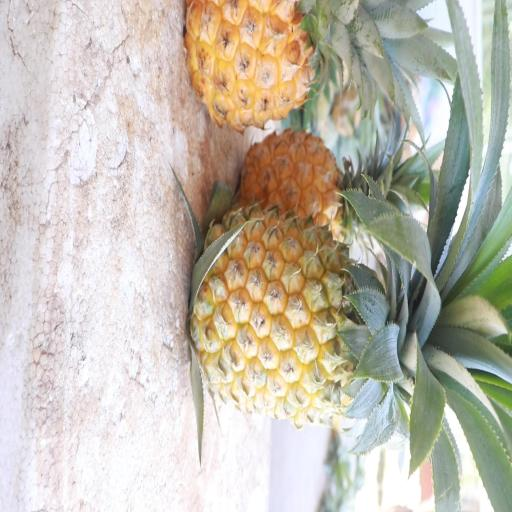Pineapple - v8 v1: (184, 198, 423, 447), (181, 0, 375, 162), (234, 125, 377, 266), (244, 98, 244, 99)
